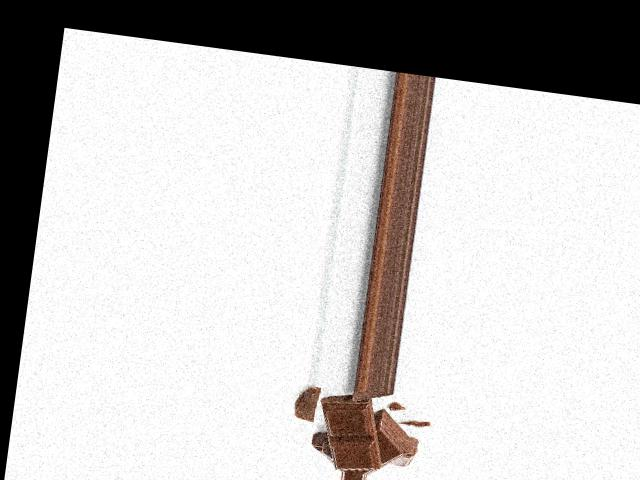chocolate: (315, 393, 390, 472)
